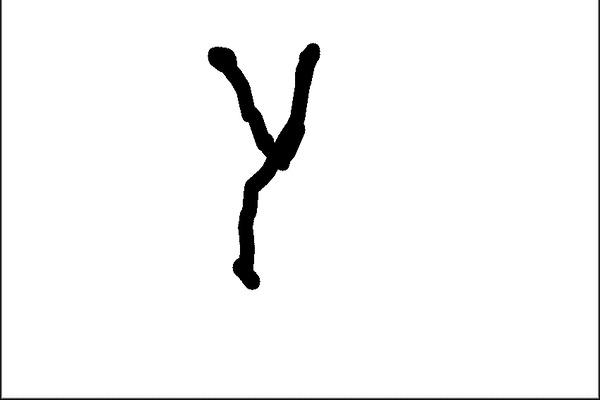Y: (184, 36, 358, 293)
